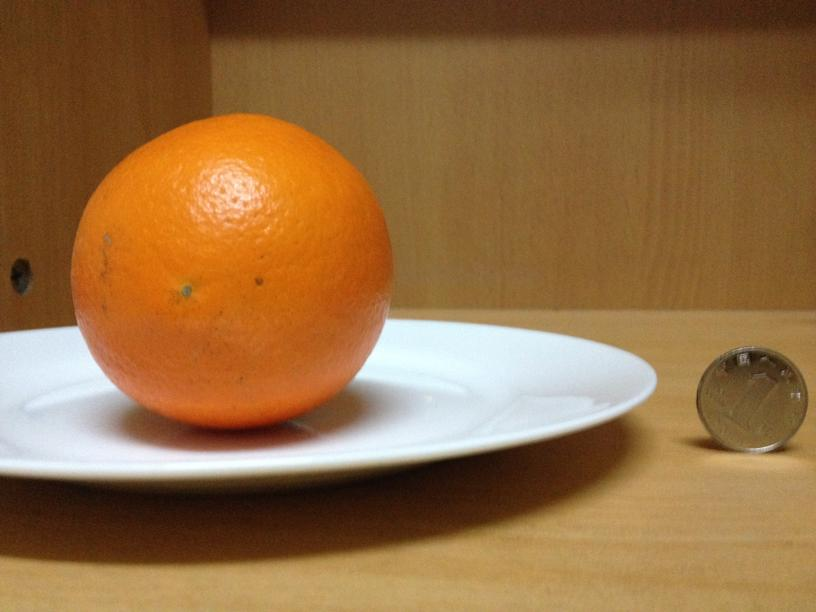coin: (697, 346, 807, 454)
orange: (64, 110, 394, 430)
